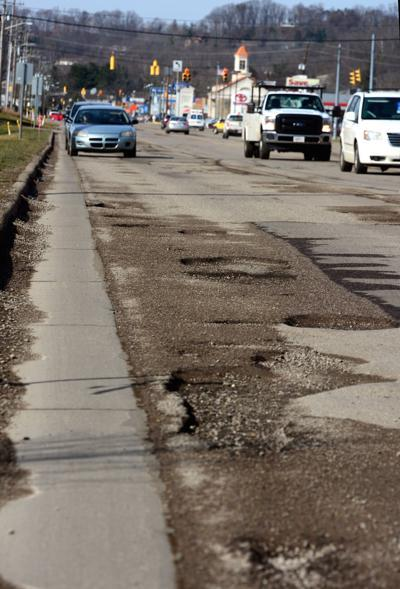pothole: (175, 339, 352, 470), (233, 524, 351, 589), (174, 252, 301, 290), (87, 194, 164, 236)
